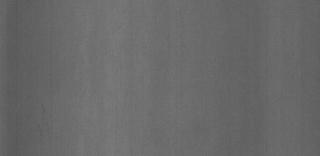water spot: (36, 94, 54, 138)
